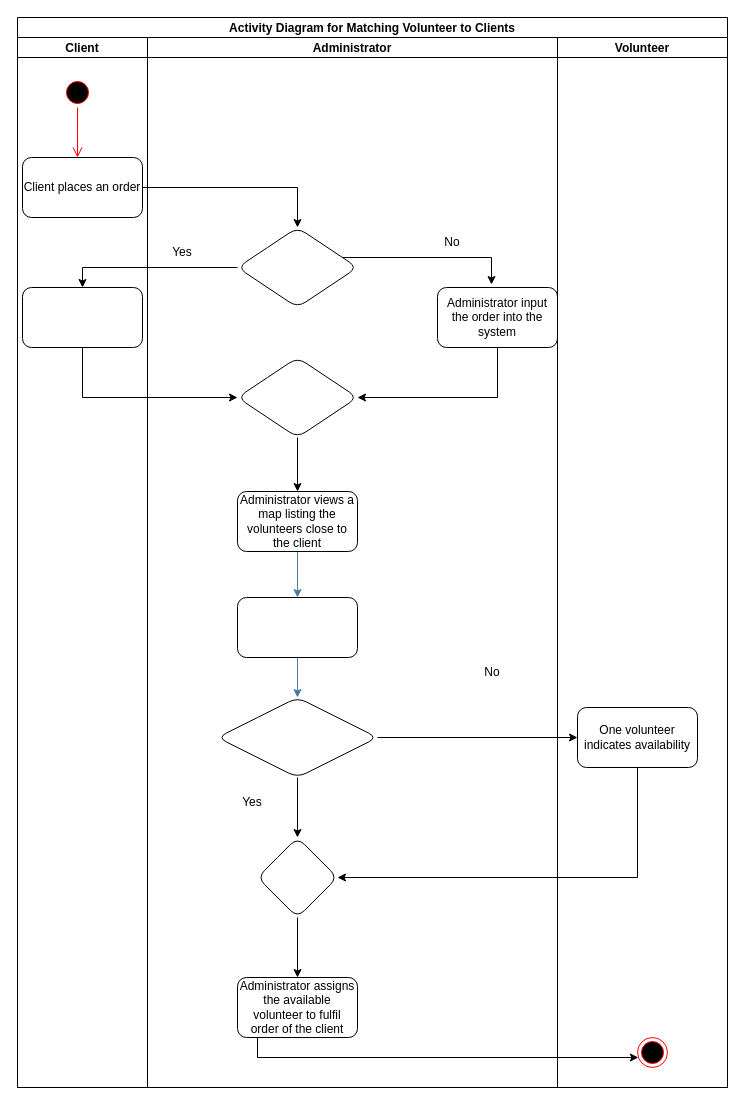
Some shapes in this 745 by 1105 pixel diagram are drawn without their labels. Here are the shapes that lost their labels. From the top down, the centre of each, then its label:
the point at 297,267: Client has internet access
the point at 82,317: Client inputs the order in the system
the point at 297,627: Administrator checks with each subset of volunteer close to the client
the point at 297,737: First volunteer available?
